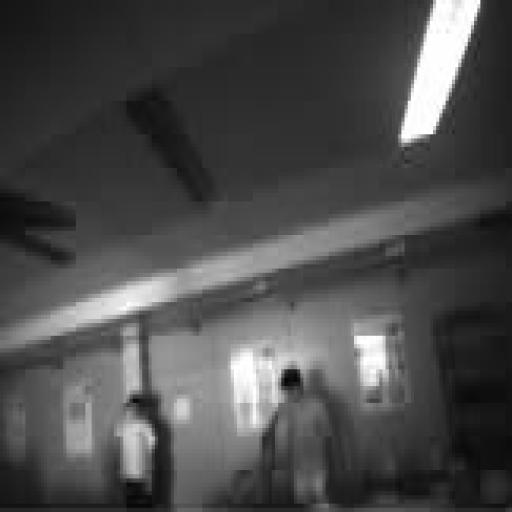human: (263, 366, 331, 507), (114, 395, 154, 507)
